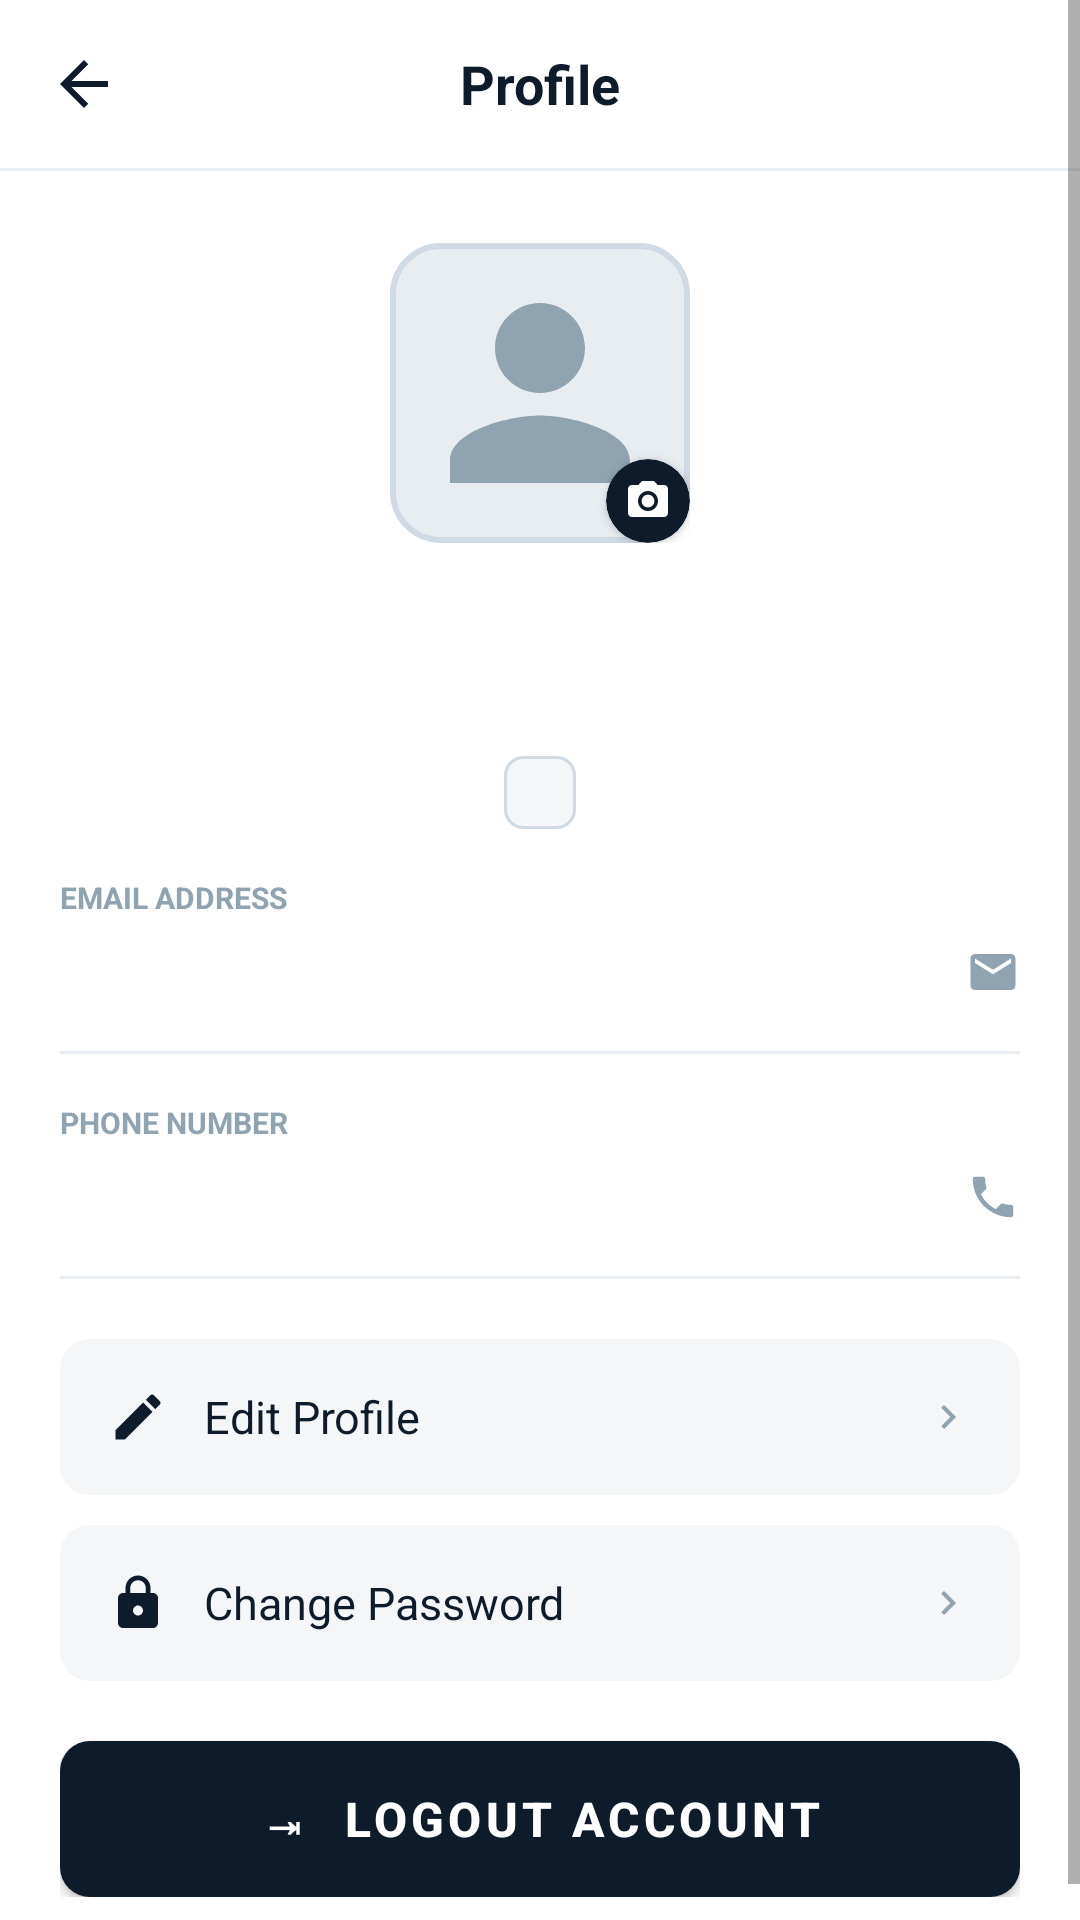

Named icons in this screenshot (1080x1920) and their bounding boxes, (x1=x1, y1=y1, x2=x2, y2=y2):
arrow back: (x1=60, y1=60, x2=108, y2=108)
arrow right: (x1=941, y1=1405, x2=956, y2=1429), (x1=941, y1=1591, x2=956, y2=1615)
camera: (x1=628, y1=481, x2=668, y2=517)
lock: (x1=118, y1=1575, x2=158, y2=1628)
mail: (x1=970, y1=954, x2=1016, y2=990)
phone: (x1=972, y1=1176, x2=1014, y2=1218)
